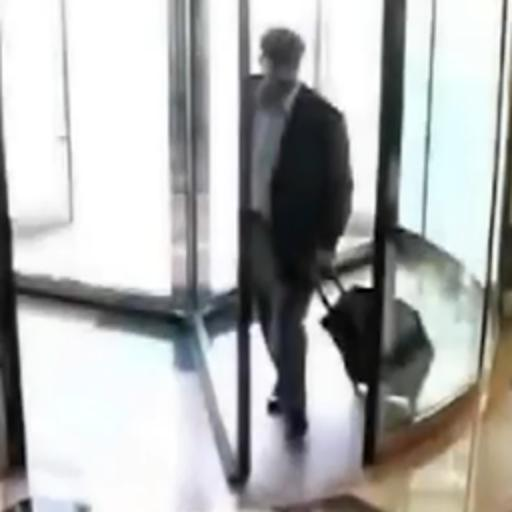Humans: (223, 8, 363, 454)
